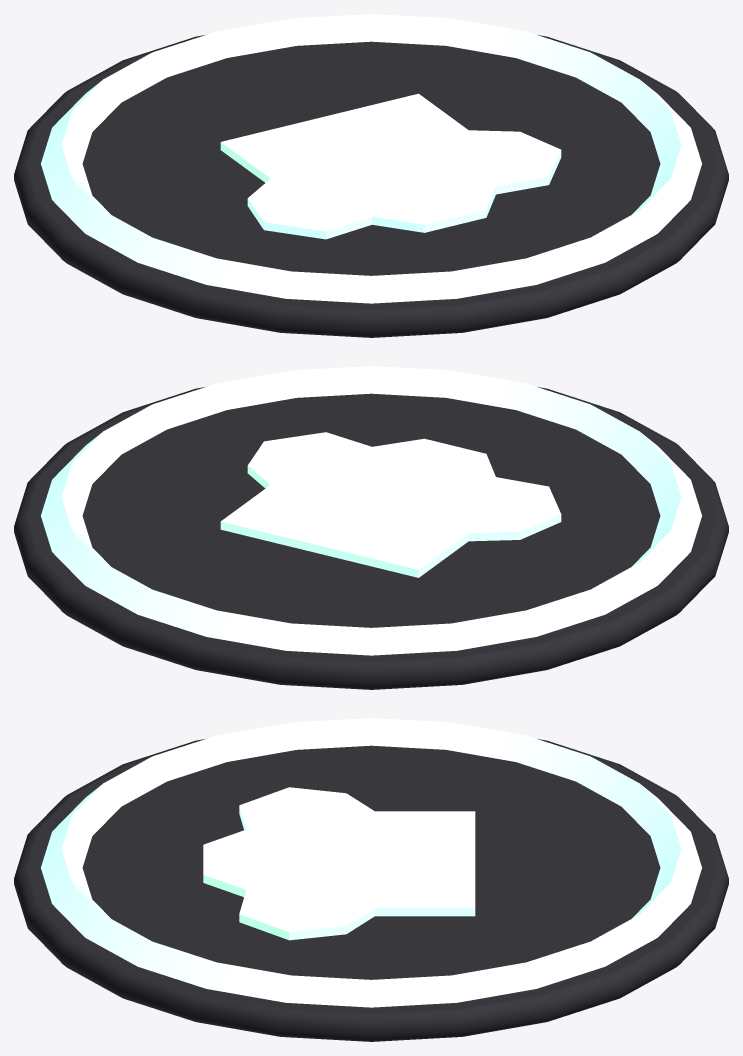
File: kr_joinpad_on.glb
3 views of the same model, one above another, from view 1: azimuth 30°, elevation 25°; view 2: azimuth 150°, elevation 25°; view 3: azimuth 270°, elevation 25° (orthographic).
Parts seen in each view (by area): view 1: vc_m0_r4, kr_joinpad_on_neongreen; view 2: vc_m0_r4, kr_joinpad_on_neongreen; view 3: vc_m0_r4, kr_joinpad_on_neongreen.
Part boxes in pixels (x1,y1,x2,y2): vc_m0_r4: [14, 35, 728, 337]; kr_joinpad_on_neongreen: [41, 14, 701, 303]; vc_m0_r4: [14, 387, 728, 689]; kr_joinpad_on_neongreen: [41, 366, 701, 655]; vc_m0_r4: [14, 739, 728, 1041]; kr_joinpad_on_neongreen: [41, 718, 701, 1007].
Bounding box in the file's own units: 1.2 × 0.085 × 1.2.
